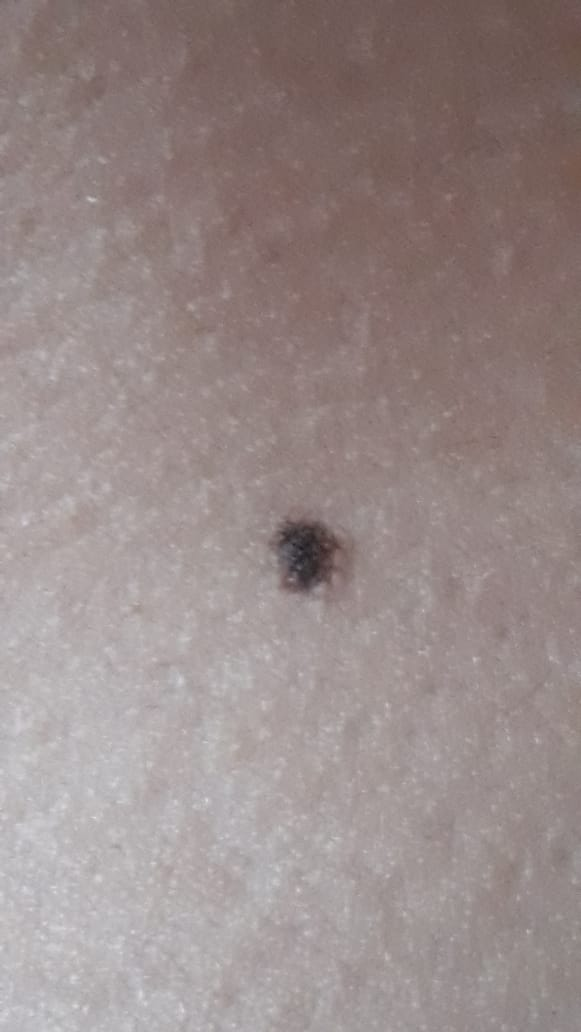Normal: (266, 517, 339, 594)
